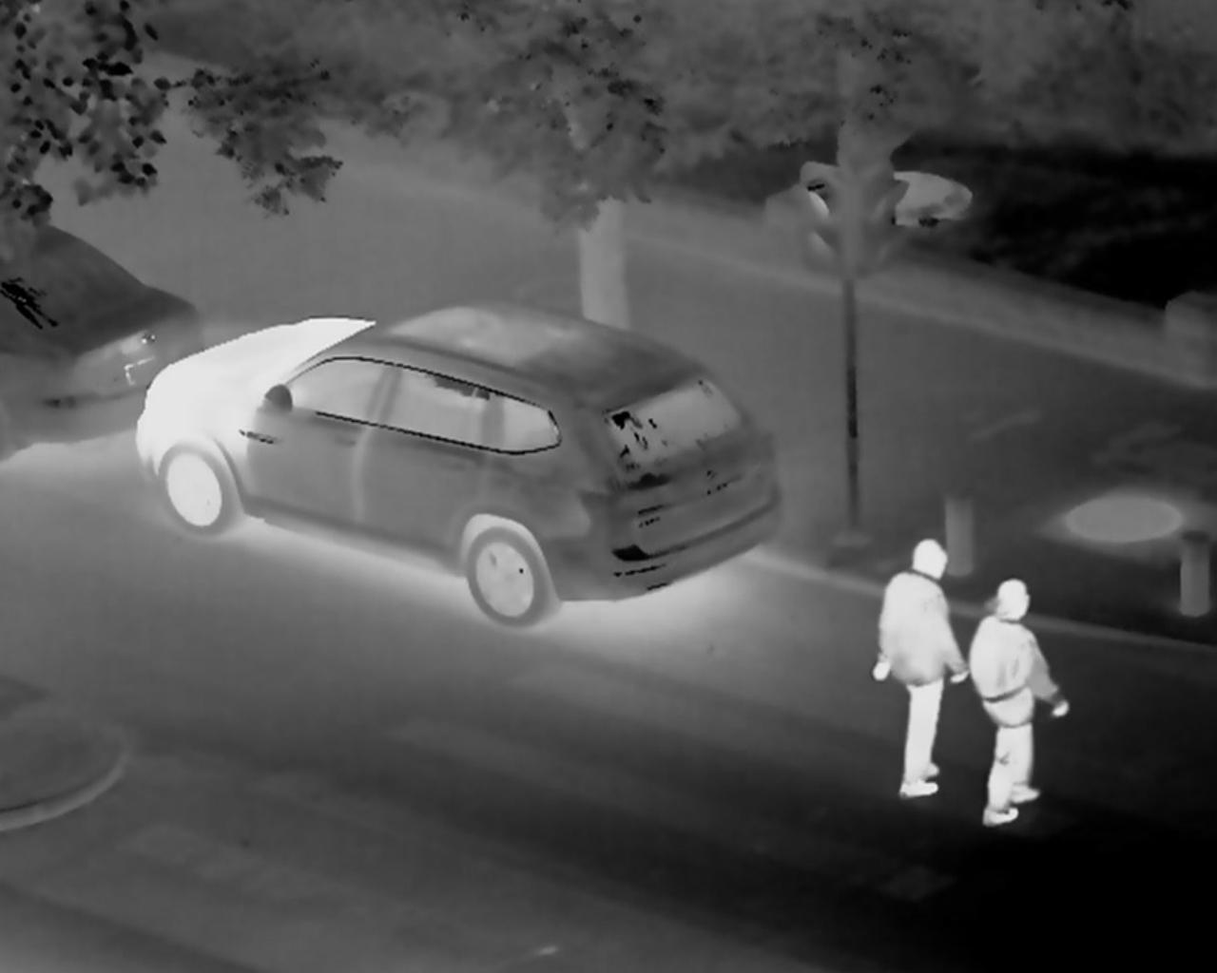person: (968, 572, 1069, 854), (893, 543, 962, 810)
